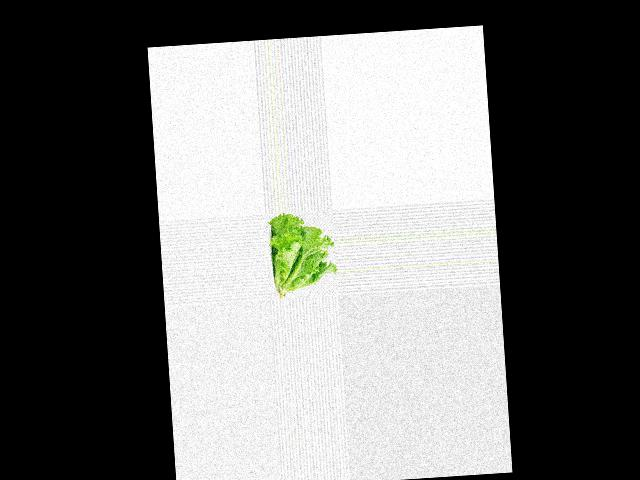lettuce: (270, 210, 338, 299)
